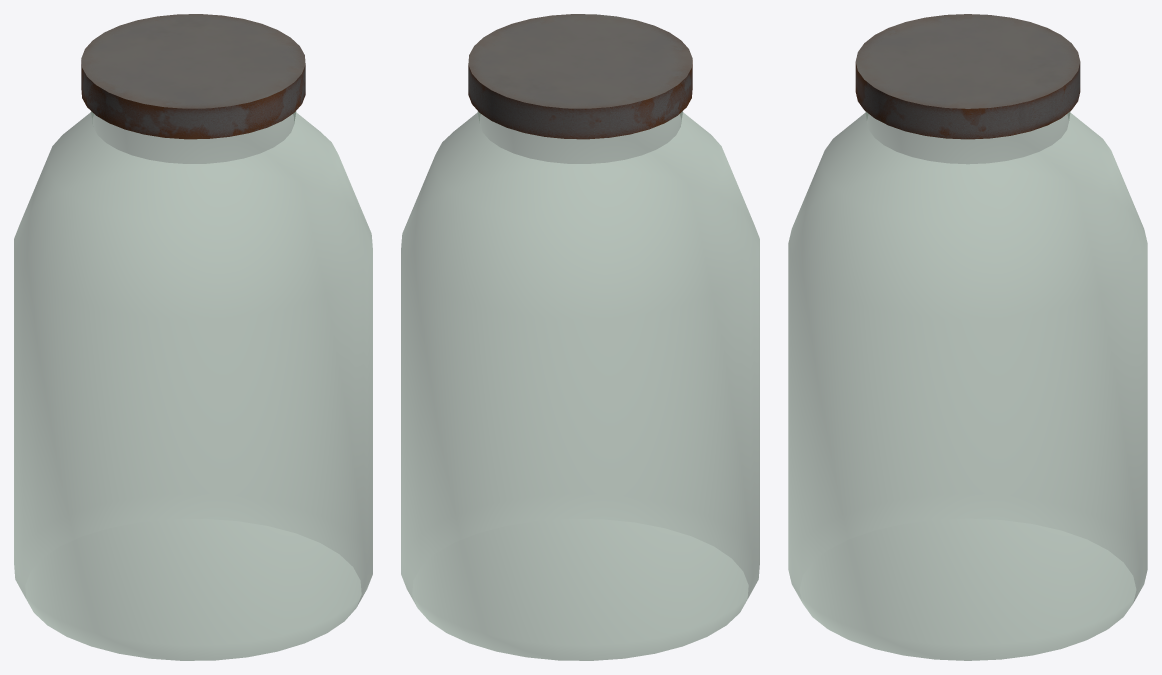
File: SM_GlassJar_3L.fbx
3 views of the same model, side by side, from view 1: azimuth 30°, elevation 25°; view 2: azimuth 150°, elevation 25°; view 3: azimuth 270°, elevation 25° (orthographic).
Parts seen in each view (by area): view 1: SM_GlassJar_3L; view 2: SM_GlassJar_3L; view 3: SM_GlassJar_3L.
Boxes of the visible parts, bbox=[...] form: SM_GlassJar_3L: bbox=[14, 14, 372, 660]; SM_GlassJar_3L: bbox=[401, 14, 759, 660]; SM_GlassJar_3L: bbox=[788, 14, 1147, 660].
Bounding box in the file's own units: 0.16 × 0.2595 × 0.16.
2 materials, 1 textured.
